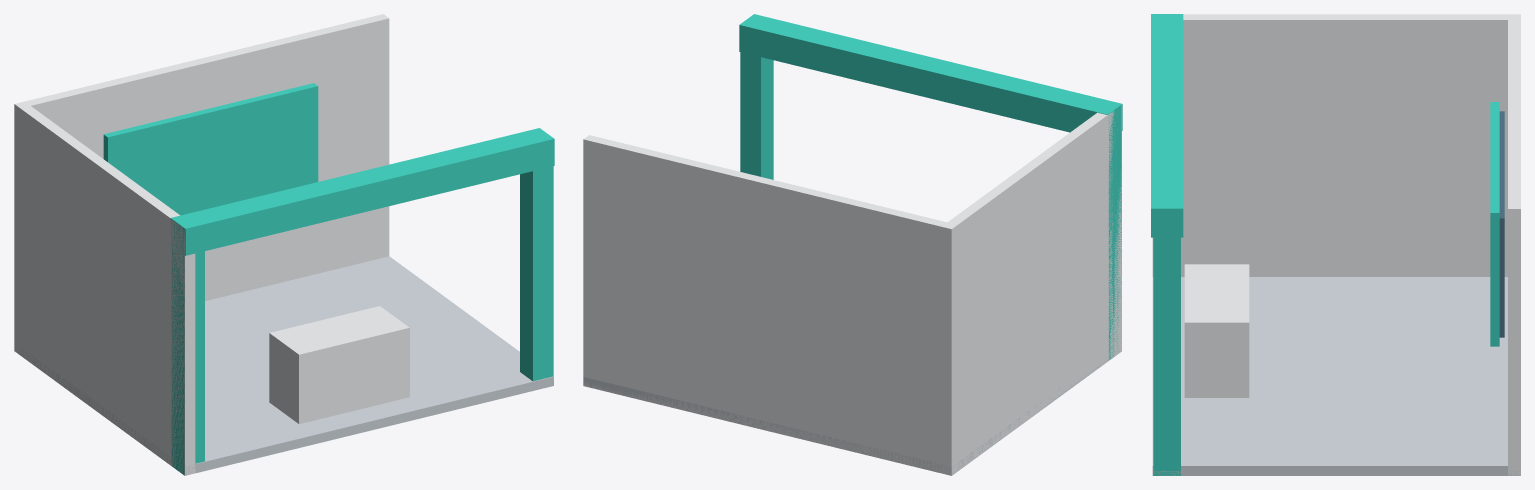
3 views of the same model, side by side, from view 1: azimuth 30°, elevation 25°; view 2: azimuth 150°, elevation 25°; view 3: azimuth 270°, elevation 25° (orthographic). The views are drawn at different scales.
Parts seen in each view (by area): view 1: Exhibition Booth Concept; view 2: Exhibition Booth Concept; view 3: Exhibition Booth Concept.
Boxes of the visible parts, box(x1,y1,x2,y2) form: Exhibition Booth Concept: box(14, 14, 554, 475); Exhibition Booth Concept: box(583, 14, 1122, 475); Exhibition Booth Concept: box(1151, 14, 1520, 475).
Bounding box in the file's own units: 5 × 3.2 × 4.02.
